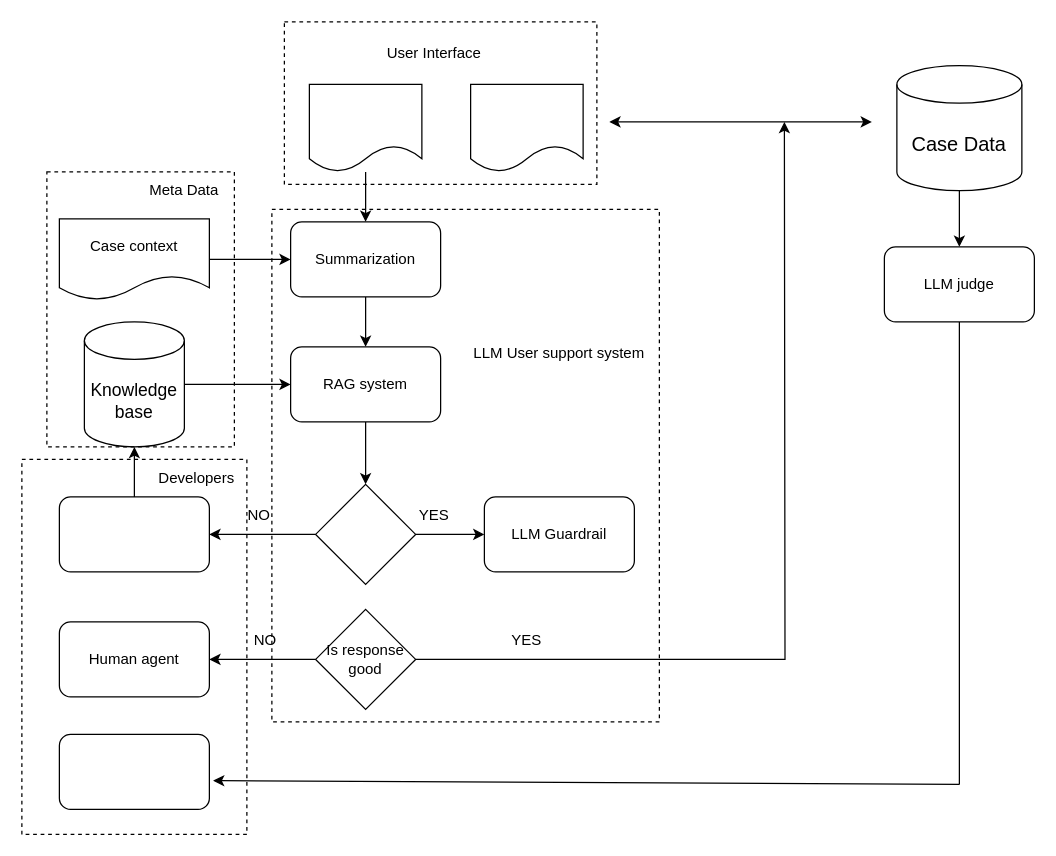
Image size: 1056x856. Some labels were removed from this diagram. Here are the shapes that lost their labels. From the top down, the centre of each, then its label:
At pixel 365 127: "User Query".
At pixel 526 127: "Response to user".
At pixel 133 534: "Expert review".
At pixel 365 533: "Retrieval success".
At pixel 133 771: "Engineering Improvements".
